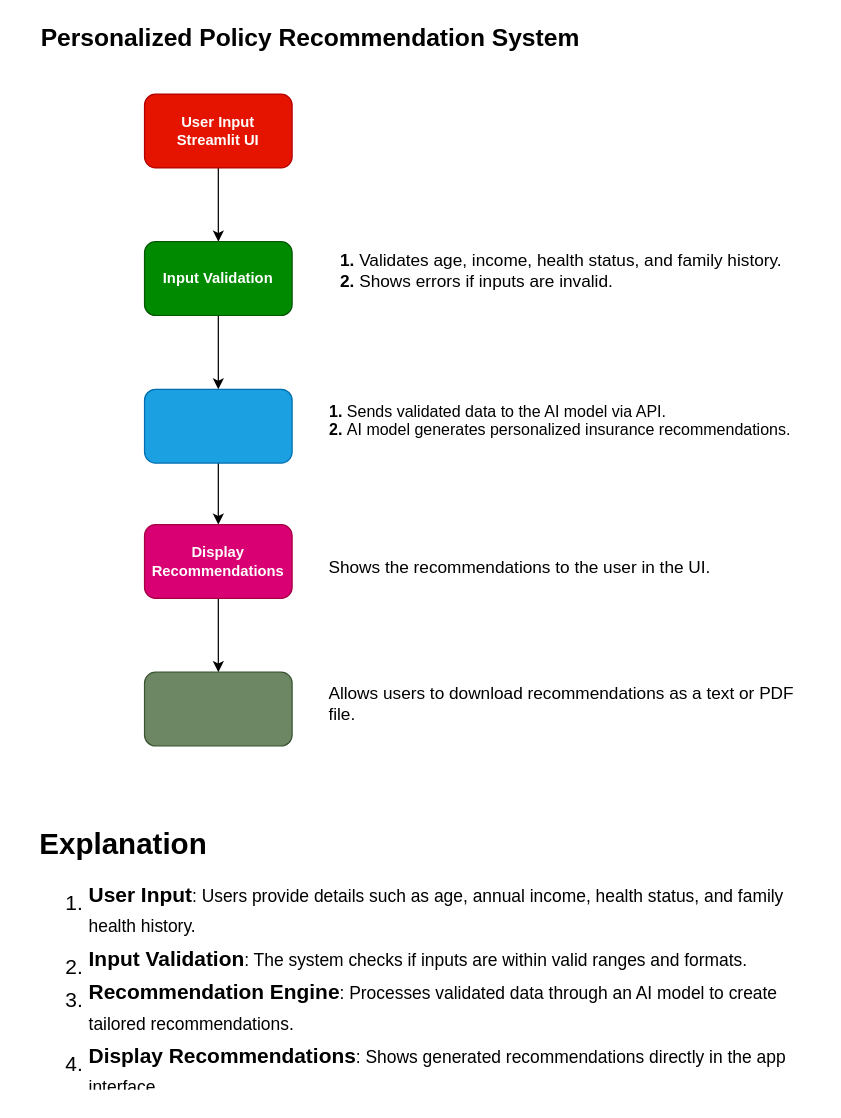
This 841x1118 diagram has some shape labels left out. The centre of each missing label's shape, as x and y in pixels:
Recommendation Engine: the point at 217,425
Save Options: the point at 217,708
